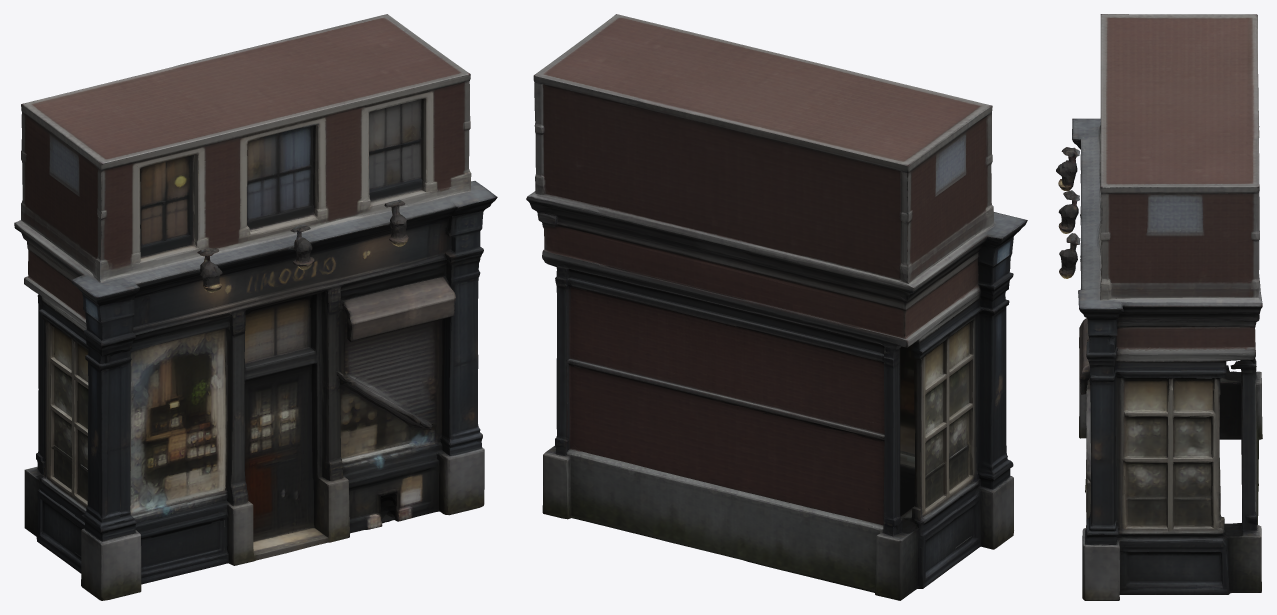
The model's file is building.noord.glb.
3 views of the same model, side by side, from view 1: azimuth 30°, elevation 25°; view 2: azimuth 150°, elevation 25°; view 3: azimuth 270°, elevation 25° (orthographic). The views are drawn at different scales.
Parts seen in each view (by area): view 1: geometry_0; view 2: geometry_0; view 3: geometry_0.
Part boxes in pixels (bbox=[...]): geometry_0: bbox=[14, 14, 497, 600]; geometry_0: bbox=[526, 14, 1027, 600]; geometry_0: bbox=[1056, 14, 1262, 600].
Size of the model in its own units: 0.9932 by 1 by 0.4557.
Materials: 1 (1 with a texture image).
